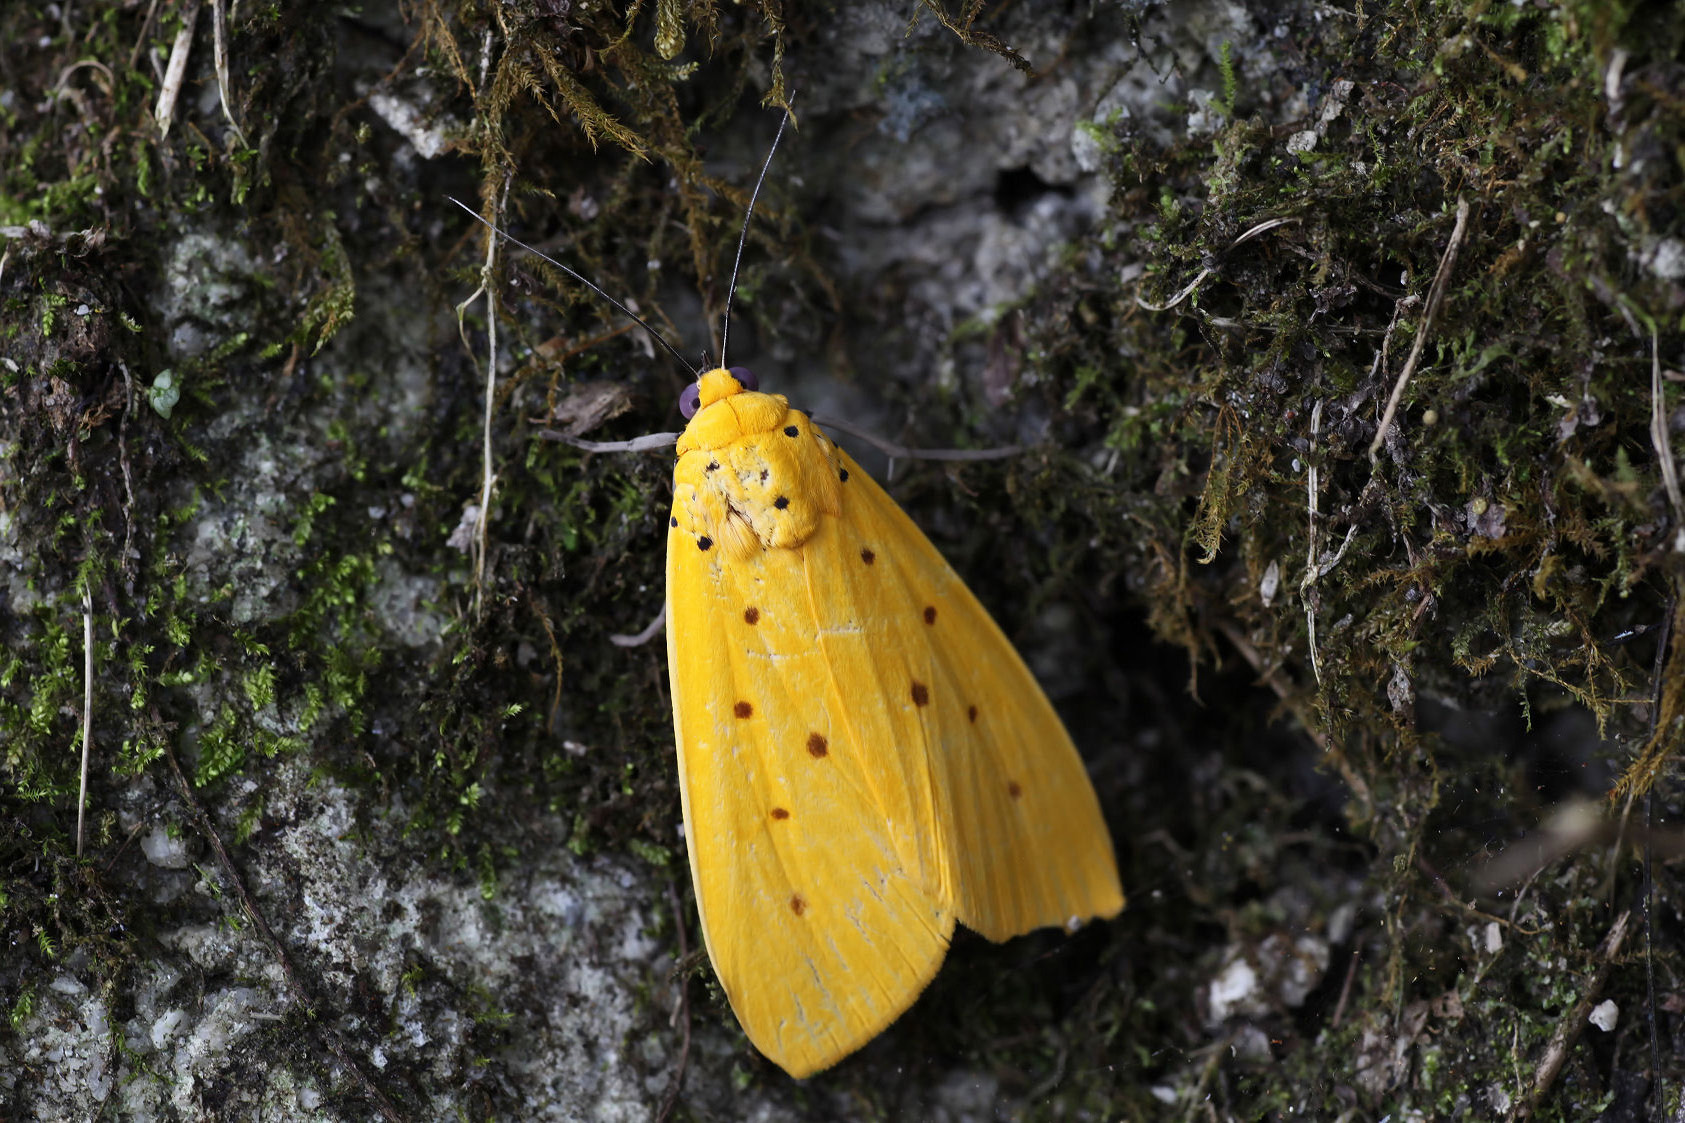Agape chloropyga: (440, 91, 1138, 1090)
moth: (442, 93, 1140, 1093)
